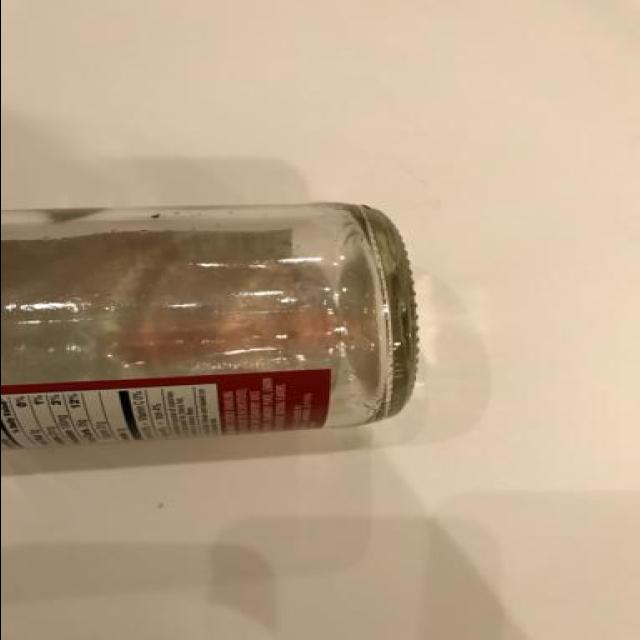Glass Bottle: (0, 202, 420, 456)
